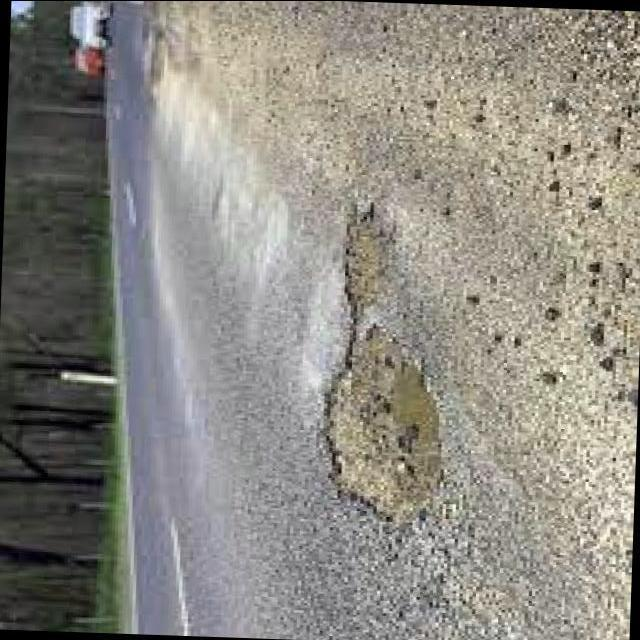pothole: (326, 323, 443, 525)
